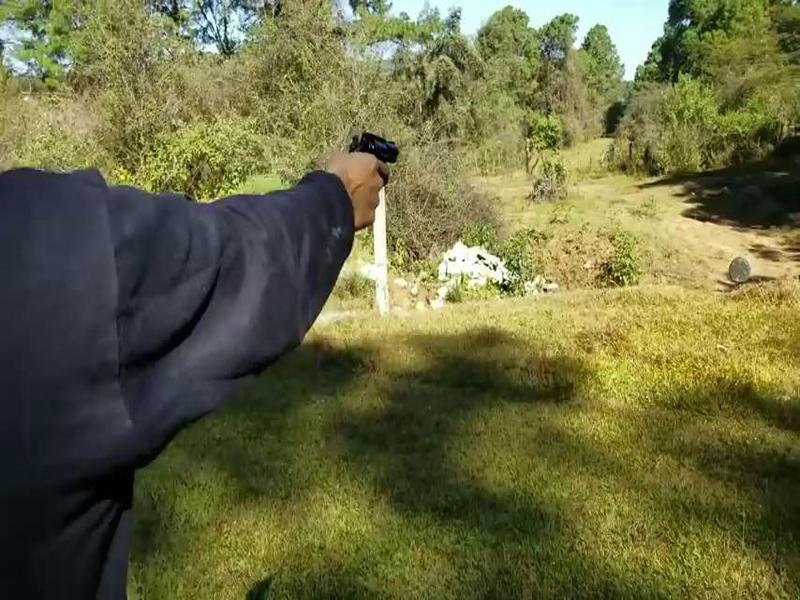Revolver: (346, 121, 422, 203)
